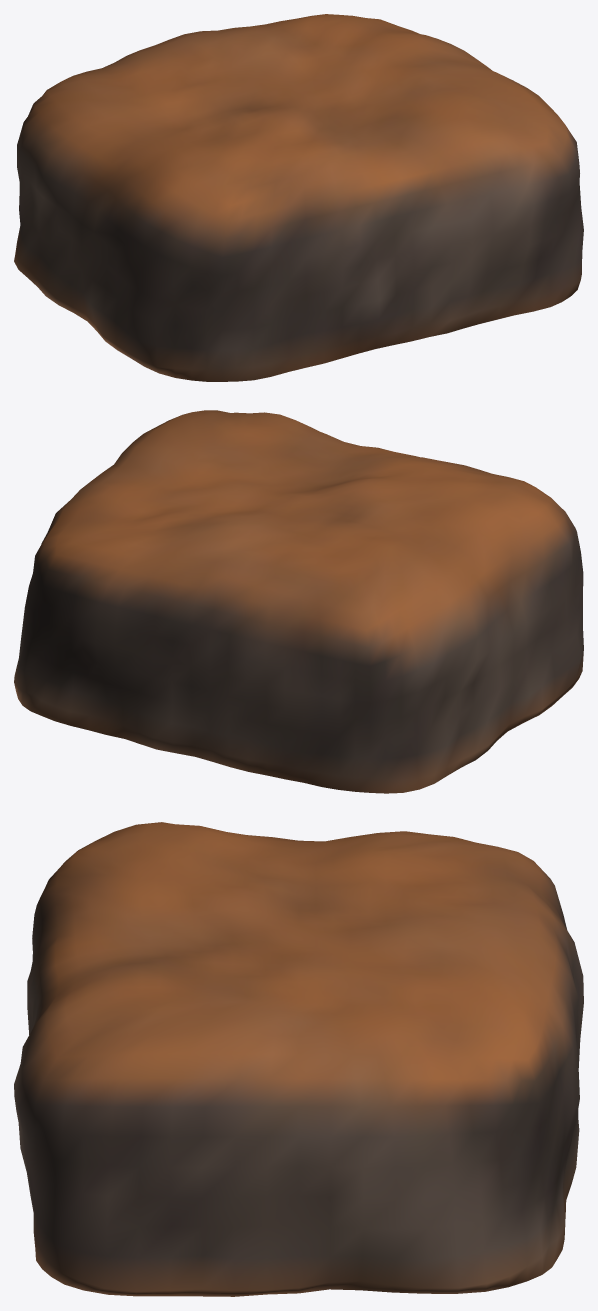
Rendered from chimp.glb.
3 views of the same model, one above another, from view 1: azimuth 30°, elevation 25°; view 2: azimuth 150°, elevation 25°; view 3: azimuth 270°, elevation 25° (orthographic). The views are drawn at different scales.
Visible parts, largest first — view 1: cover-chimp; view 2: cover-chimp; view 3: cover-chimp.
Boxes of the visible parts, <box> form: cover-chimp: <box>14,14,583,381</box>; cover-chimp: <box>14,410,583,793</box>; cover-chimp: <box>14,822,583,1296</box>.
Size of the model in its own units: 0.2954 by 0.12 by 0.258.
